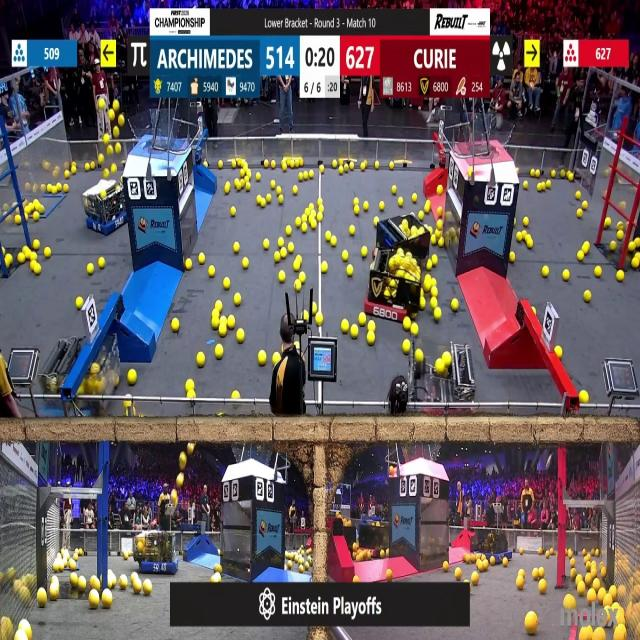ball_airborne: (180, 453, 187, 471), (177, 474, 184, 490), (116, 114, 124, 126), (112, 101, 120, 112), (96, 97, 103, 109), (172, 490, 178, 502), (187, 444, 193, 456), (108, 109, 115, 119), (113, 128, 119, 139), (114, 143, 120, 153), (99, 153, 105, 163), (107, 146, 113, 154), (104, 135, 108, 144)
ball_ground: (526, 614, 538, 636), (34, 588, 44, 606), (101, 592, 112, 608), (90, 592, 101, 608), (564, 595, 575, 609), (129, 370, 138, 386), (142, 582, 152, 596), (77, 576, 87, 590), (594, 629, 606, 640), (350, 324, 359, 338), (119, 575, 128, 589), (49, 587, 58, 601), (581, 628, 591, 640), (258, 351, 266, 365), (215, 345, 223, 359), (402, 341, 410, 355), (538, 581, 546, 595), (172, 318, 180, 332), (198, 353, 206, 367), (444, 352, 452, 366), (435, 358, 443, 372), (26, 625, 34, 639), (185, 380, 194, 392), (578, 391, 587, 403), (416, 349, 424, 362), (470, 571, 478, 584), (342, 320, 350, 333), (515, 577, 523, 590), (588, 591, 596, 604), (134, 582, 142, 595), (433, 309, 441, 321), (226, 316, 234, 328), (402, 318, 410, 330), (576, 584, 584, 596), (92, 576, 100, 588), (366, 333, 373, 346), (238, 331, 245, 344), (424, 277, 431, 290), (618, 271, 626, 282), (454, 568, 462, 579), (628, 242, 636, 253), (235, 293, 242, 305), (563, 270, 570, 282), (222, 278, 229, 290), (212, 317, 219, 329), (452, 300, 459, 312), (316, 314, 323, 326), (585, 290, 592, 302), (99, 256, 106, 268), (347, 266, 354, 278), (595, 267, 602, 279), (358, 314, 365, 326), (107, 578, 114, 590), (214, 302, 222, 312), (316, 212, 324, 222), (556, 346, 562, 359), (412, 323, 419, 334), (219, 324, 226, 335), (34, 265, 41, 276), (632, 257, 639, 268), (5, 254, 12, 265), (70, 573, 77, 584), (234, 242, 240, 254), (76, 296, 82, 308), (584, 242, 590, 254), (532, 568, 538, 580), (33, 240, 40, 250), (199, 253, 206, 263), (429, 297, 436, 307), (311, 219, 318, 229), (526, 239, 533, 249), (618, 232, 625, 242), (430, 286, 437, 296), (292, 262, 299, 272), (17, 253, 24, 263), (507, 252, 514, 262), (280, 249, 287, 259), (302, 222, 309, 232), (435, 184, 442, 194), (258, 198, 265, 208), (33, 212, 40, 222), (593, 580, 600, 590), (321, 263, 327, 274), (243, 257, 249, 268), (610, 241, 616, 252), (209, 267, 215, 278), (279, 272, 285, 283), (89, 265, 95, 276), (44, 247, 50, 258), (304, 311, 310, 322), (420, 299, 426, 310), (275, 251, 281, 262), (349, 224, 355, 235), (211, 574, 219, 582), (324, 233, 331, 242), (464, 554, 471, 563), (245, 182, 252, 191), (435, 208, 442, 217), (435, 220, 442, 229), (361, 247, 367, 257), (264, 240, 270, 250), (185, 261, 191, 271), (330, 237, 336, 247), (444, 562, 450, 572), (524, 216, 530, 226), (577, 251, 583, 261), (286, 225, 292, 235), (541, 268, 547, 278), (298, 273, 304, 283), (312, 304, 318, 314), (274, 352, 280, 362), (342, 251, 348, 261), (538, 567, 544, 577), (367, 321, 373, 331), (397, 198, 403, 208), (517, 233, 523, 243), (294, 282, 300, 292), (287, 243, 293, 253), (426, 262, 432, 272), (439, 238, 445, 248), (424, 204, 430, 214), (604, 218, 610, 228), (26, 248, 32, 258), (475, 560, 481, 570), (233, 391, 240, 399), (187, 390, 194, 398), (212, 311, 219, 319), (349, 164, 356, 172), (387, 568, 392, 579), (380, 202, 386, 211), (292, 185, 298, 194), (294, 217, 300, 226), (278, 239, 284, 248), (276, 185, 282, 194), (31, 251, 37, 260), (570, 567, 576, 576), (237, 181, 243, 190), (490, 557, 496, 566), (522, 232, 528, 241), (567, 551, 573, 560), (70, 562, 76, 571), (310, 211, 316, 220), (363, 202, 368, 212), (413, 192, 418, 202), (502, 558, 507, 568), (224, 183, 229, 193), (268, 193, 273, 203), (279, 197, 284, 207), (568, 172, 573, 182), (316, 199, 323, 206), (583, 202, 589, 210), (518, 568, 524, 576), (419, 212, 425, 220), (240, 170, 246, 178), (331, 162, 337, 170), (374, 217, 380, 225), (430, 279, 436, 287), (14, 216, 20, 224), (483, 562, 489, 570), (375, 163, 381, 171), (232, 162, 238, 170), (46, 184, 52, 192), (123, 400, 129, 408), (310, 171, 316, 179), (560, 170, 566, 178), (271, 162, 277, 170), (91, 163, 97, 171), (576, 209, 581, 218), (354, 207, 359, 216), (431, 237, 436, 246), (84, 162, 89, 171), (282, 164, 287, 173), (344, 165, 349, 174), (353, 575, 359, 582), (530, 170, 536, 177), (308, 204, 314, 211), (524, 181, 529, 189), (232, 208, 237, 216), (575, 190, 580, 198), (537, 183, 542, 191), (381, 552, 386, 560), (552, 170, 557, 178), (65, 171, 70, 179), (387, 161, 392, 169), (360, 164, 365, 172), (58, 183, 63, 191), (216, 564, 221, 572), (265, 162, 270, 170), (298, 565, 303, 573), (436, 228, 441, 236), (392, 184, 396, 193), (432, 255, 436, 264), (64, 184, 69, 191), (570, 560, 575, 567), (218, 162, 222, 170), (256, 173, 260, 181), (546, 180, 550, 188), (298, 173, 302, 181), (535, 170, 539, 178), (340, 167, 344, 175), (272, 180, 276, 188), (205, 162, 209, 170), (305, 172, 309, 180), (551, 550, 555, 558), (320, 167, 324, 174), (354, 199, 358, 206), (72, 168, 76, 175), (217, 550, 221, 557), (123, 554, 127, 561), (520, 547, 524, 553), (544, 553, 548, 559), (538, 547, 542, 553)
goal: (460, 118, 517, 158), (128, 115, 186, 152)
robot_blue: (35, 332, 120, 417), (84, 175, 128, 237), (378, 214, 432, 263), (134, 530, 178, 574), (472, 527, 512, 563)
robot_red: (417, 346, 476, 415), (367, 250, 422, 322)
